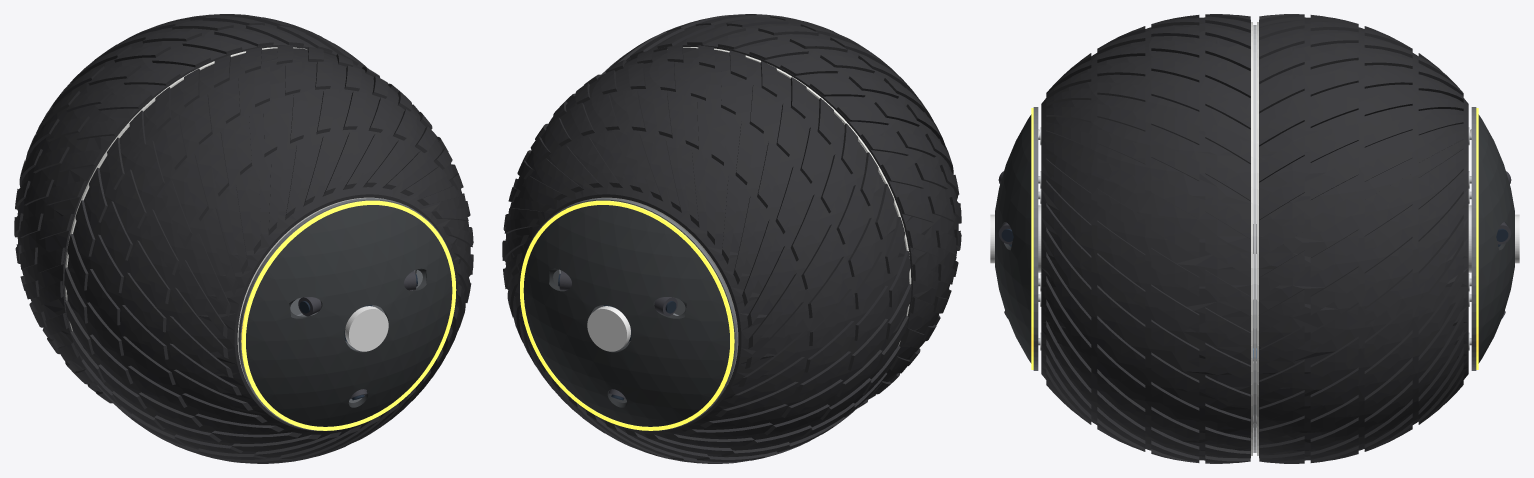
File: gyra_mk2.glb
3 views of the same model, side by side, from view 1: azimuth 30°, elevation 25°; view 2: azimuth 150°, elevation 25°; view 3: azimuth 270°, elevation 25° (orthographic). The views are drawn at different scales.
Parts seen in each view (by area): view 1: lugs_R, tread_base_R, pod_shield_R, lugs_L, tread_base_L, led_ring_R, pod_plate_R, lidar_body_R, drum_L; view 2: lugs_L, tread_base_L, pod_shield_L, lugs_R, tread_base_R, led_ring_L, pod_plate_L, lidar_body_L, drum_R; view 3: lugs_R, lugs_L, tread_base_R, tread_base_L, pod_shield_L, pod_shield_R, eq_slewing_ring, pod_plate_L, pod_plate_R, drum_L, drum_R, led_ring_L (+1 smaller).
Boxes of the visible parts, <box> form: lugs_R: <box>64,45,473,463</box>; tread_base_R: <box>67,48,470,458</box>; pod_shield_R: <box>246,205,452,426</box>; lugs_L: <box>14,14,368,403</box>; tread_base_L: <box>17,19,361,391</box>; led_ring_R: <box>241,200,456,430</box>; pod_plate_R: <box>238,198,453,430</box>; lidar_body_R: <box>345,306,388,351</box>; drum_L: <box>65,47,306,331</box>; lugs_L: <box>502,45,911,463</box>; tread_base_L: <box>505,48,909,458</box>; pod_shield_L: <box>523,205,729,426</box>; lugs_R: <box>601,14,961,408</box>; tread_base_R: <box>626,17,958,399</box>; led_ring_L: <box>520,200,734,430</box>; pod_plate_L: <box>522,198,737,430</box>; lidar_body_L: <box>587,306,630,351</box>; drum_R: <box>683,47,911,345</box>; lugs_R: <box>1046,14,1250,463</box>; lugs_L: <box>1259,14,1463,463</box>; tread_base_R: <box>1041,17,1250,460</box>; tread_base_L: <box>1259,17,1468,460</box>; pod_shield_L: <box>1478,114,1514,363</box>; pod_shield_R: <box>995,114,1031,363</box>; eq_slewing_ring: <box>1253,25,1256,452</box>; pod_plate_L: <box>1471,107,1476,370</box>; pod_plate_R: <box>1033,107,1038,370</box>; drum_L: <box>1257,22,1258,455</box>; drum_R: <box>1251,22,1252,455</box>; led_ring_L: <box>1476,108,1478,369</box>.
Size of the model in its own units: 0.6 by 0.6 by 0.706.
